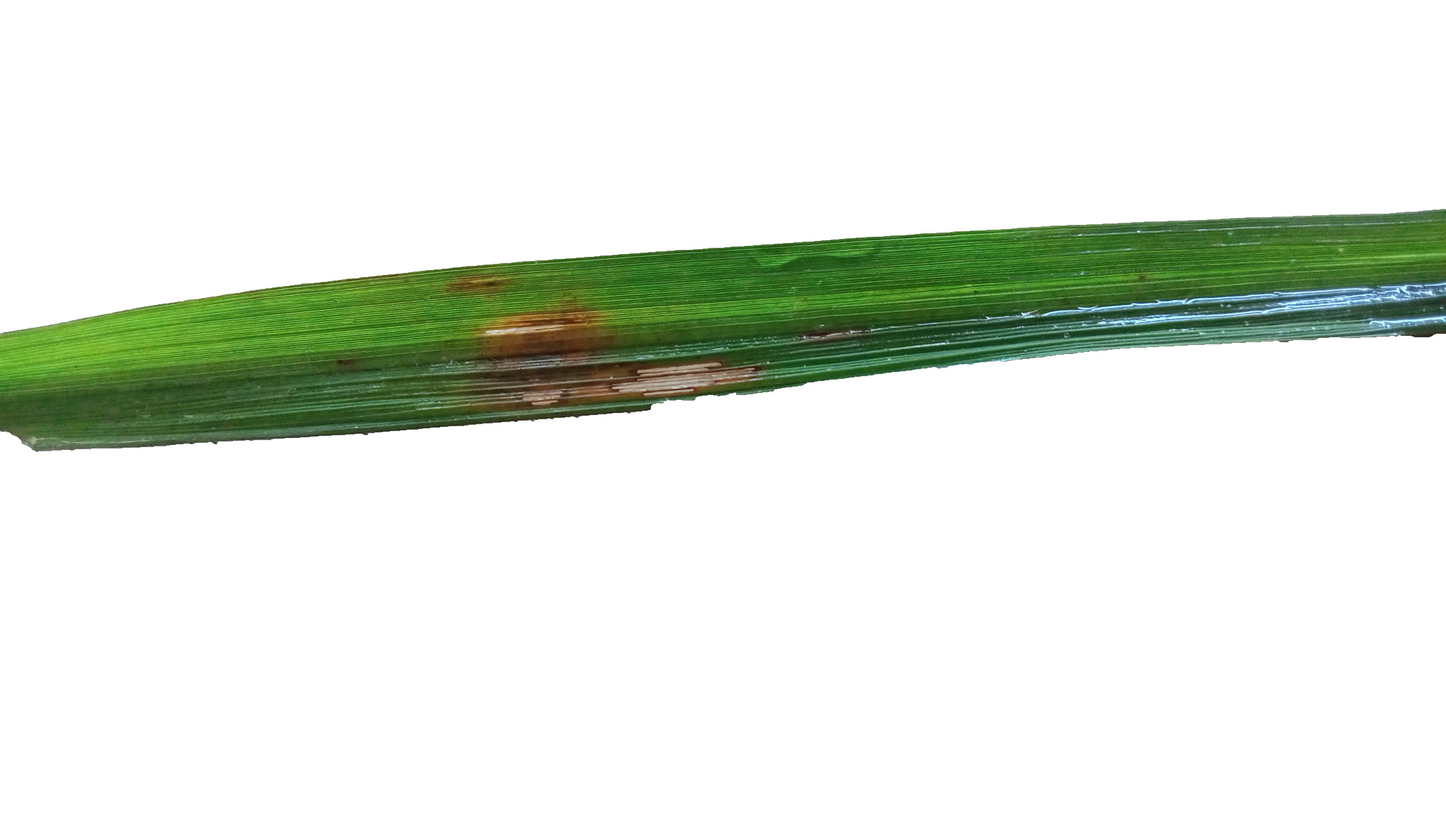Blight: (481, 307, 620, 413), (614, 330, 754, 401), (440, 271, 525, 307)
